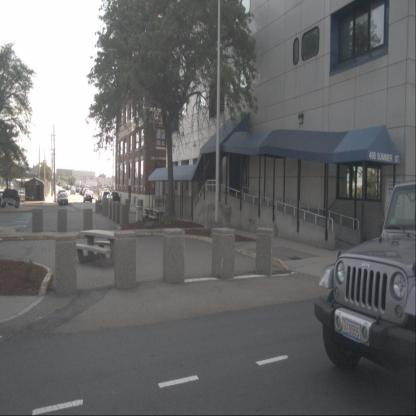vehicle-car: (314, 179, 416, 381), (100, 190, 111, 204), (58, 192, 68, 206), (98, 190, 107, 203), (57, 190, 66, 202), (84, 192, 92, 203), (16, 190, 28, 197), (88, 190, 93, 199), (70, 188, 76, 195)
vehicle-truck: (108, 191, 121, 203)
